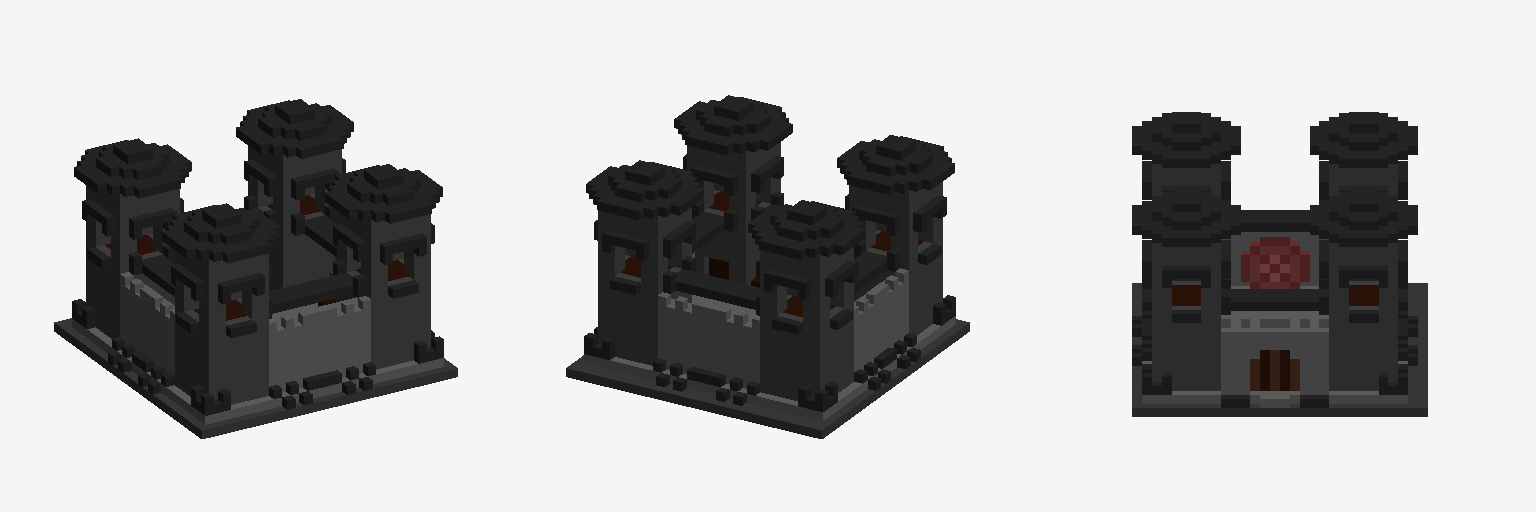
3 renders of one model, left to right at view 1: azimuth 30°, elevation 25°; view 2: azimuth 150°, elevation 25°; view 3: azimuth 270°, elevation 25°, orthographic.
Parts seen in each view (by area): view 1: object 1; view 2: object 1; view 3: object 1.
Boxes of the visible parts, x1,y1,x2,y2 form: object 1: [54, 99, 457, 438]; object 1: [566, 95, 969, 438]; object 1: [1132, 112, 1427, 416].
Size of the model in its own units: 3 by 2.2 by 3.
Materials: 1 (1 with a texture image).